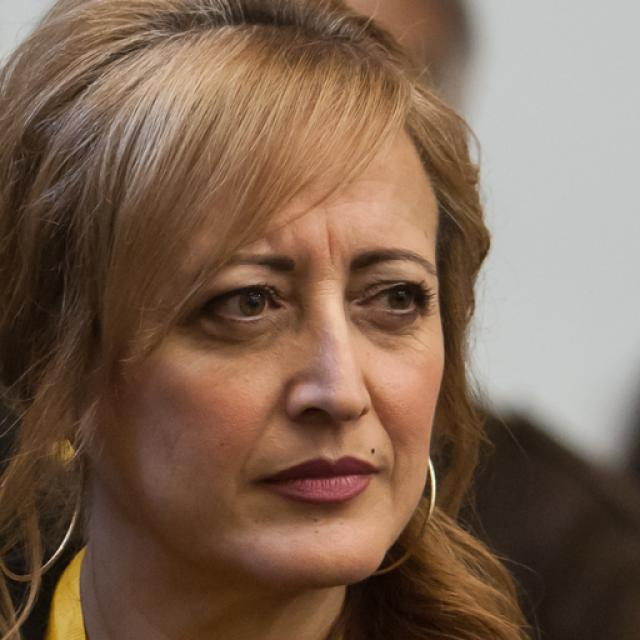Dark Circle: (192, 312, 294, 354), (350, 305, 423, 335)
